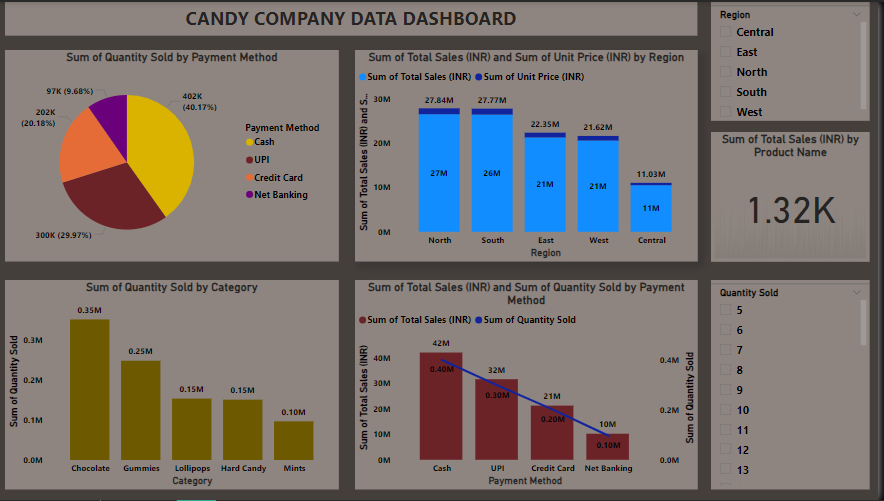

This screenshot's page, from the dashboard's own definition file:
{"tool":"powerbi","page":{"name":"Page 1","canvas":[1280,725],"ordinal":0},"visuals":[{"type":"pieChart","fields":{"Y":["Sum(Sheet1.Quantity Sold)"],"Category":["Sheet1.Payment Method"]},"box":[10.1,69.4,485.8,308],"z":0},{"type":"columnChart","fields":{"Category":["Sheet1.Category"],"Y":["Sum(Sheet1.Quantity Sold)"]},"box":[10.1,404.8,485.8,305.1],"z":1000},{"type":"columnChart","fields":{"Category":["Sheet1.Region"],"Y":["Sum(Sheet1.Total Sales (INR))","Sum(Sheet1.Unit Price (INR))"]},"box":[519,69.4,498.8,308],"z":2000},{"type":"lineClusteredColumnComboChart","fields":{"Y":["Sum(Sheet1.Total Sales (INR))"],"Category":["Sheet1.Payment Method"],"Y2":["Sum(Sheet1.Quantity Sold)"]},"box":[519,404.8,498.8,305.1],"z":3000},{"type":"slicer","fields":{"Values":["Sheet1.Region"]},"box":[1038.1,0,231.3,173.5],"z":4000},{"type":"slicer","fields":{"Values":["Sheet1.Quantity Sold"]},"box":[1038.1,404.8,231.3,305.1],"z":5000},{"type":"kpi","fields":{"TrendLine":["Sheet1.Product Name"],"Indicator":["Sum(Sheet1.Total Sales (INR))"]},"box":[1038.1,189.4,231.3,189.4],"z":6000},{"type":"textbox","box":[10.1,0,1007.7,49.2],"z":7000}]}

Visuals, with their boxes in screenshot pixels (x1, y1, x2, y2), scaled from the page's 1280x725 canvas onto the 884x501 screenshot:
pieChart - Sum(Sheet1.Quantity Sold) x Sheet1.Payment Method: bbox=(7, 48, 342, 261)
columnChart - Sheet1.Category x Sum(Sheet1.Quantity Sold): bbox=(7, 280, 342, 491)
columnChart - Sheet1.Region x Sum(Sheet1.Total Sales (INR)): bbox=(358, 48, 703, 261)
lineClusteredColumnComboChart - Sum(Sheet1.Total Sales (INR)) x Sheet1.Payment Method: bbox=(358, 280, 703, 491)
slicer - Sheet1.Region: bbox=(717, 0, 877, 120)
slicer - Sheet1.Quantity Sold: bbox=(717, 280, 877, 491)
kpi - Sheet1.Product Name x Sum(Sheet1.Total Sales (INR)): bbox=(717, 131, 877, 262)
textbox: bbox=(7, 0, 703, 34)
